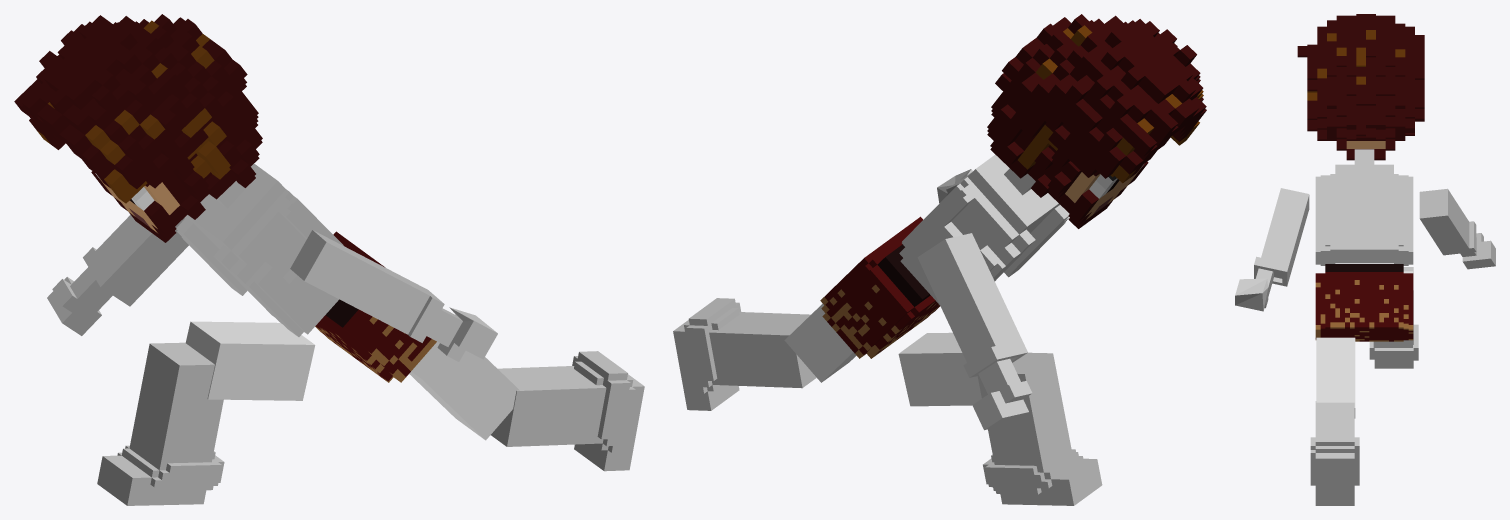
The model's file is POS8.fbx.
The picture shows the model from 3 angles, left to right: view 1: azimuth 30°, elevation 25°; view 2: azimuth 150°, elevation 25°; view 3: azimuth 270°, elevation 25°; orthographic projection. The views are drawn at different scales.
Visible parts, largest first — view 1: POS8; view 2: POS8; view 3: POS8.
Boxes of the visible parts, bbox=[...] form: POS8: bbox=[14, 14, 644, 505]; POS8: bbox=[673, 14, 1206, 505]; POS8: bbox=[1235, 14, 1495, 505].
Size of the model in its own units: 182 by 164 by 113.
